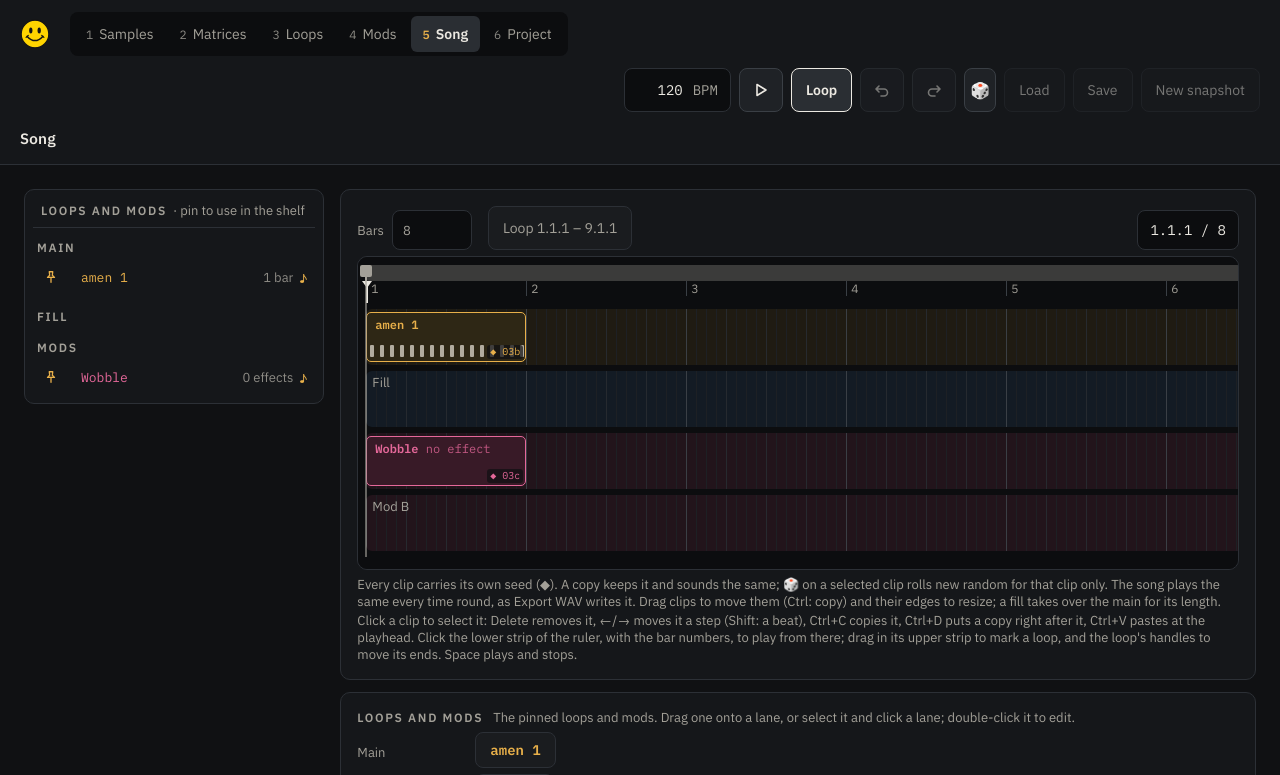
it: the selected clip’s panel › shows nothing until a clip is selected; then its name, row and bars, seed and sentence
Click the button "amen 1 ◆ 03b": coordinates (446, 337) [366,312,526,362]
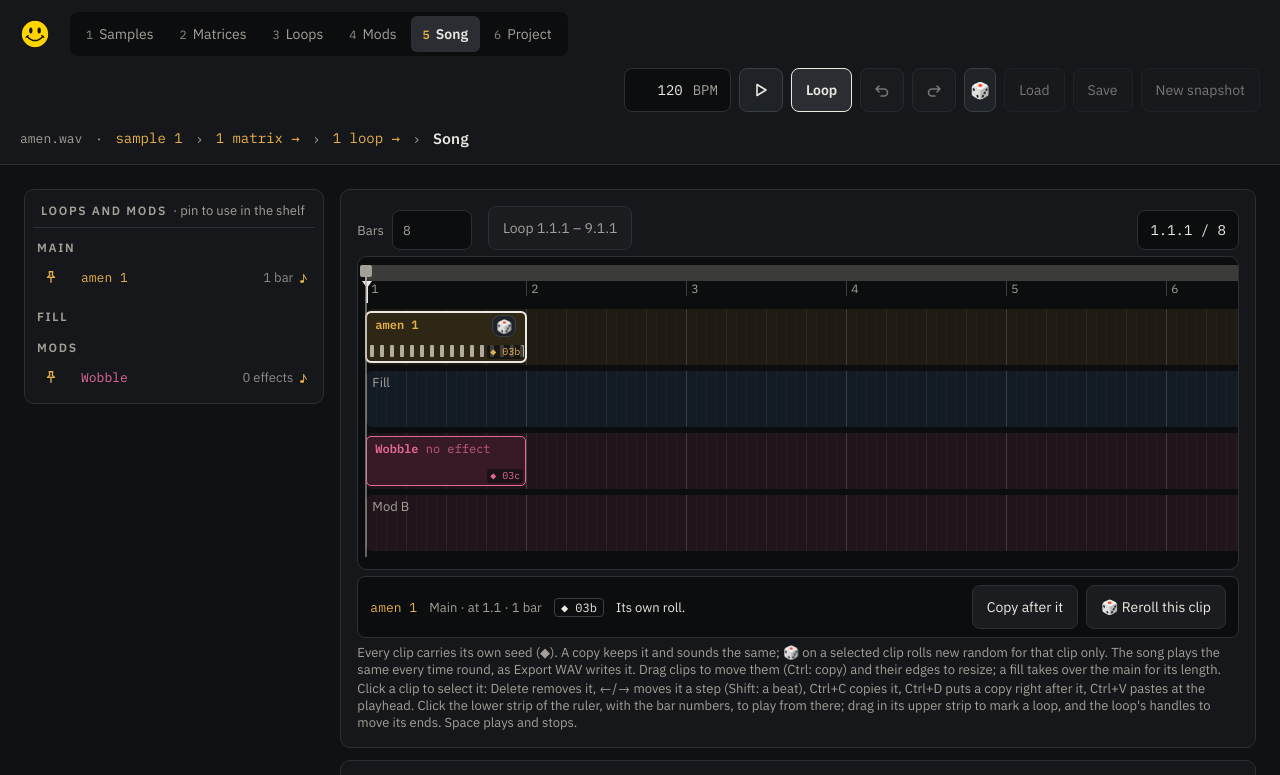
Expected: the text "Main · at 1.1 · 1 bar" is shown, [429,598,542,616]
Expected: the text "Its own roll." is shown, [616,598,685,616]
Note: A mod clip: Mod A, in the mod's colour.
Click the button with aria-label "Wobble, 1.1.1": coordinates (446, 461) [366,436,526,486]
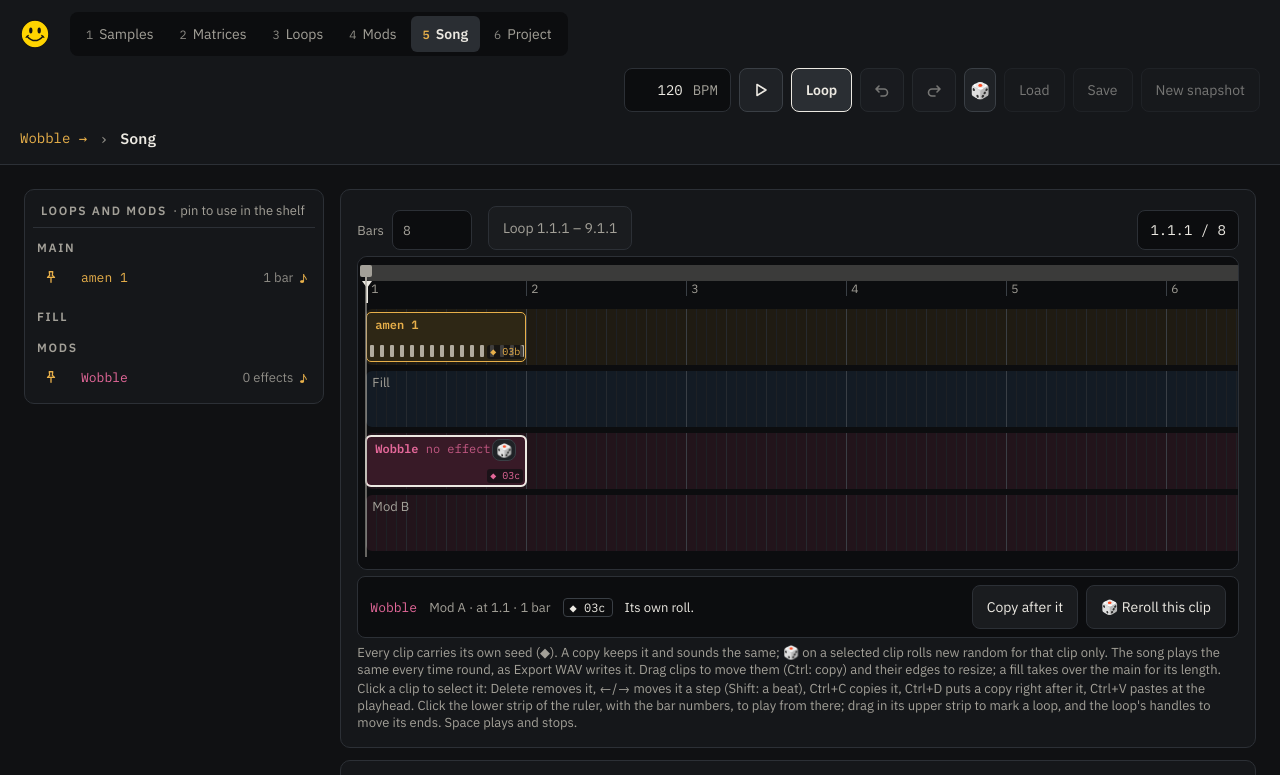
Expected: the text "Mod A · at 1.1 · 1 bar" is shown, [429,598,551,616]
